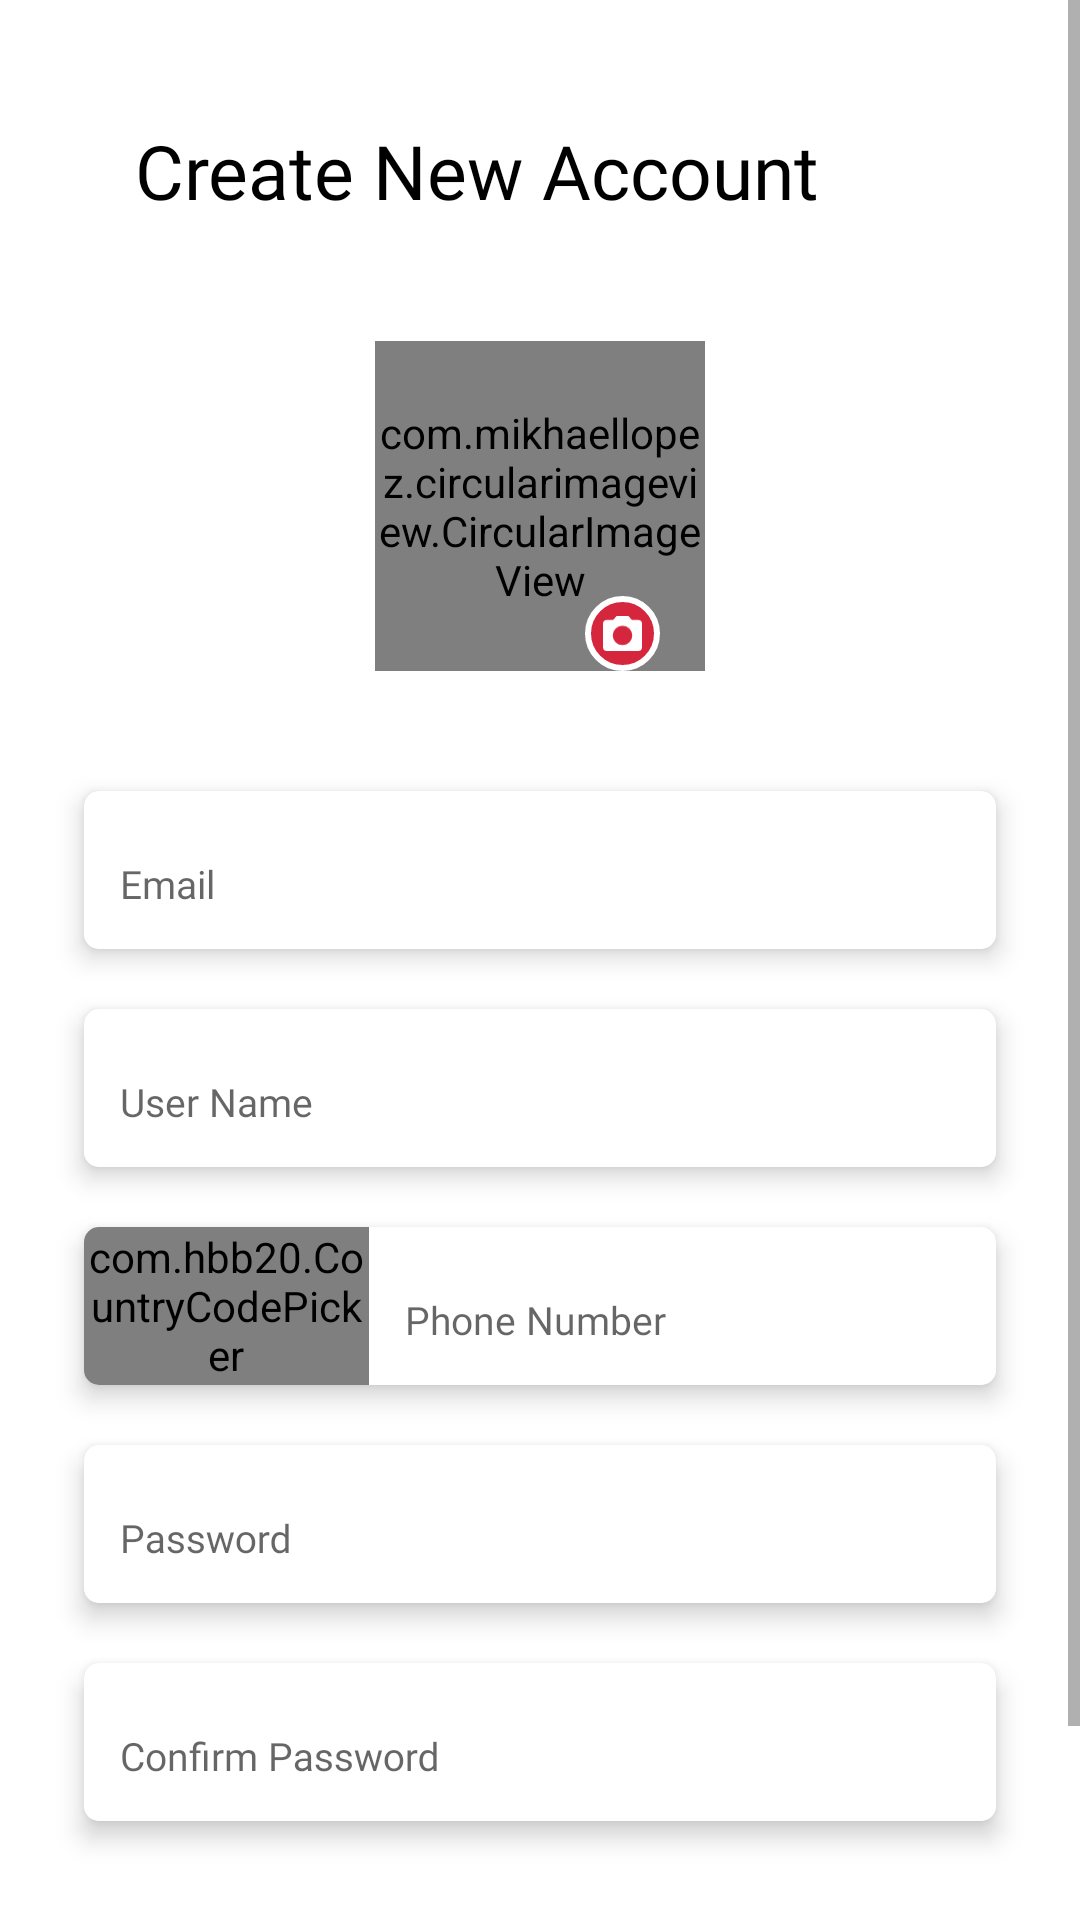

Icon bounding boxes for this 1080×1920 phone screenshot, format (x1, y1, x2, y2):
camera: (585, 596, 660, 671)
